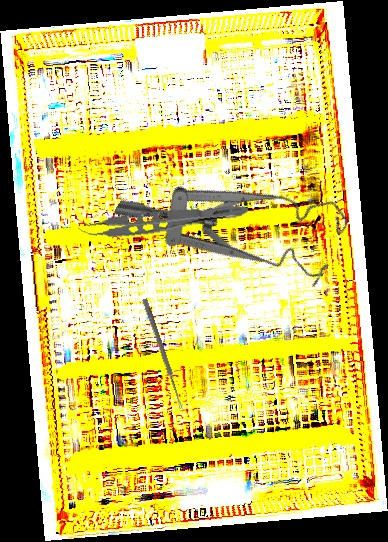Speculum: (111, 104, 360, 328)
Surgical Spoon: (141, 298, 185, 410)
Tissue Forceps: (75, 189, 250, 246)
